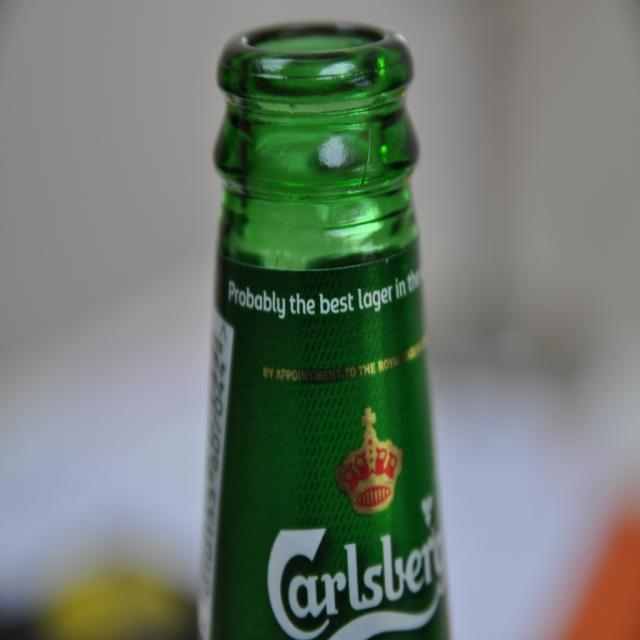carlsberg: (263, 403, 453, 640)
